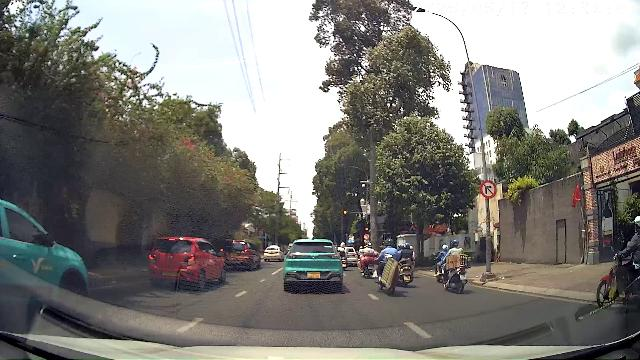123b-cam-re-phai: (479, 180, 496, 198)
